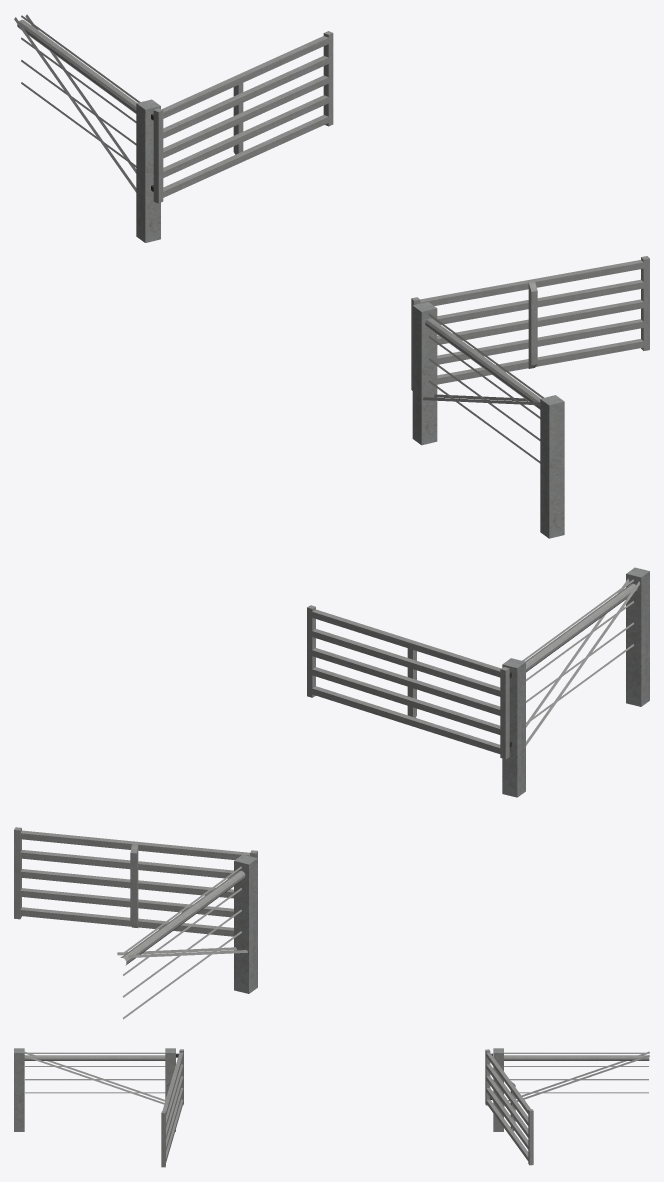
File: farm-fence-gate-open-cbj_LOD00.gltf
3 renders of one model, top to bottom at view 1: azimuth 30°, elevation 25°; view 2: azimuth 150°, elevation 25°; view 3: azimuth 270°, elevation 25°, orthographic. The views are drawn at different scales.
Visible parts, largest first — view 1: gate00; view 2: gate00; view 3: gate00.
Boxes of the visible parts, bbox=[...] form: gate00: bbox=[14, 14, 649, 538]; gate00: bbox=[14, 567, 649, 1019]; gate00: bbox=[14, 1048, 649, 1167].
Size of what is drawn, in the model's own units: 3.19 by 1.81 by 13.11.
